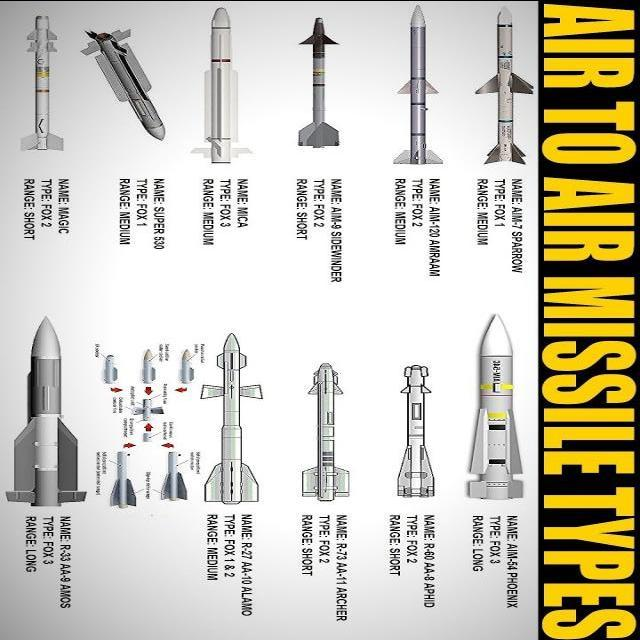missile: (0, 306, 91, 516), (450, 316, 542, 502), (187, 325, 281, 505), (75, 23, 183, 142), (288, 362, 377, 504), (371, 0, 444, 168), (466, 6, 535, 179), (11, 0, 73, 158), (286, 15, 350, 159)
